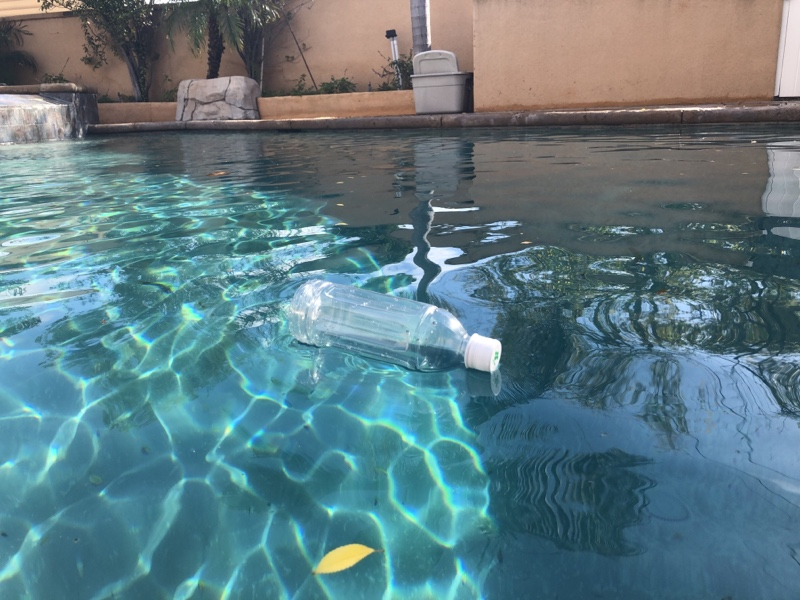Plastic Bottle: (285, 274, 505, 375)
